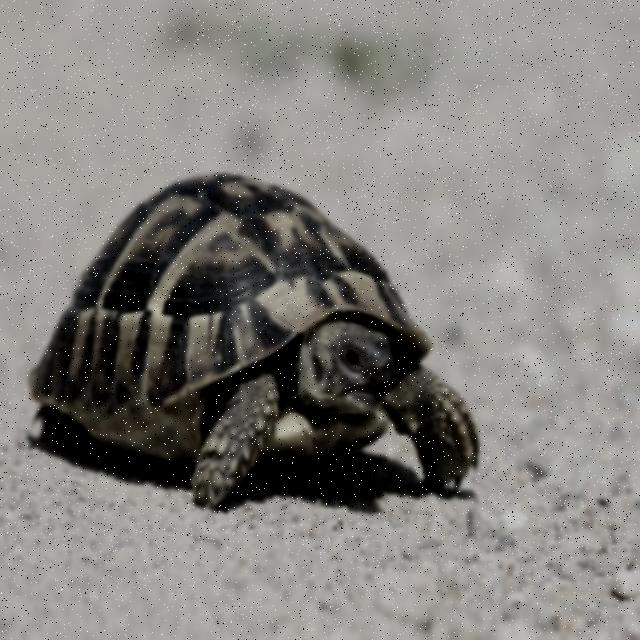tortoise: (11, 169, 488, 525)
